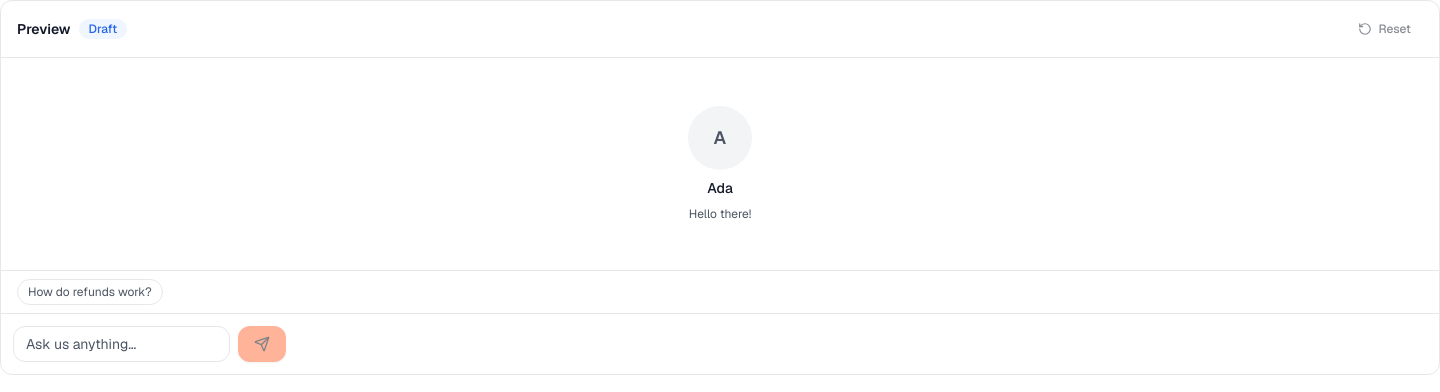
Test: PreviewPanel › sends the draft and renders the answer
The width and height of the screenshot is (1440, 392).
Type "How do refunds work?" into the field named "Preview message". click: (122, 344)
box: [13,326,230,362]
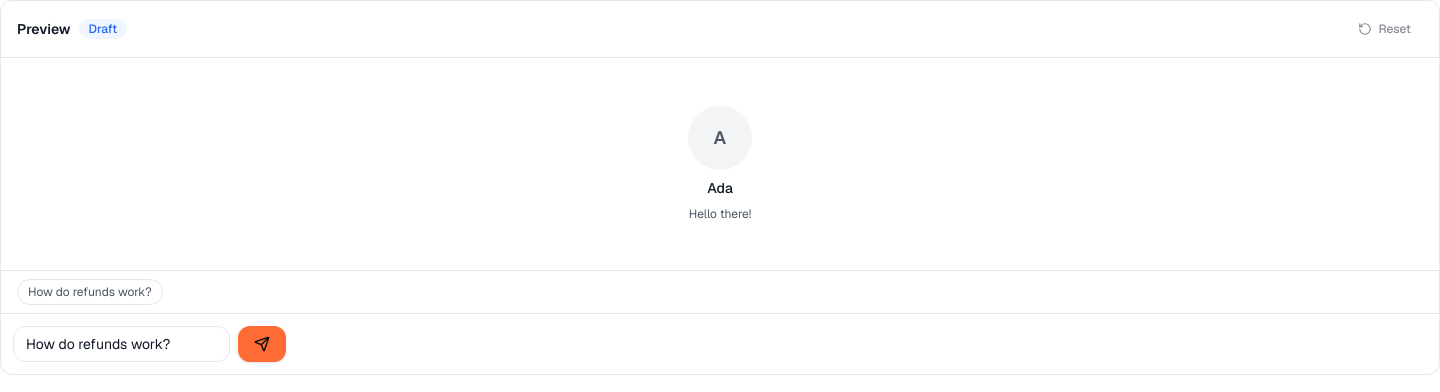
Submit the form named "Preview message", box [1,313,1439,374]
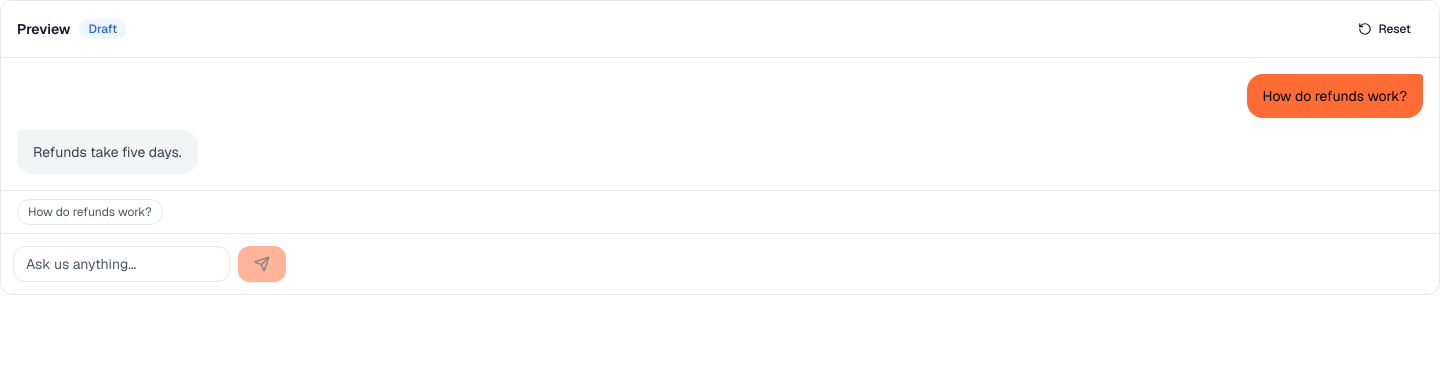
Check: the text "Refunds take five days." is shown, box [33,140,182,164]
